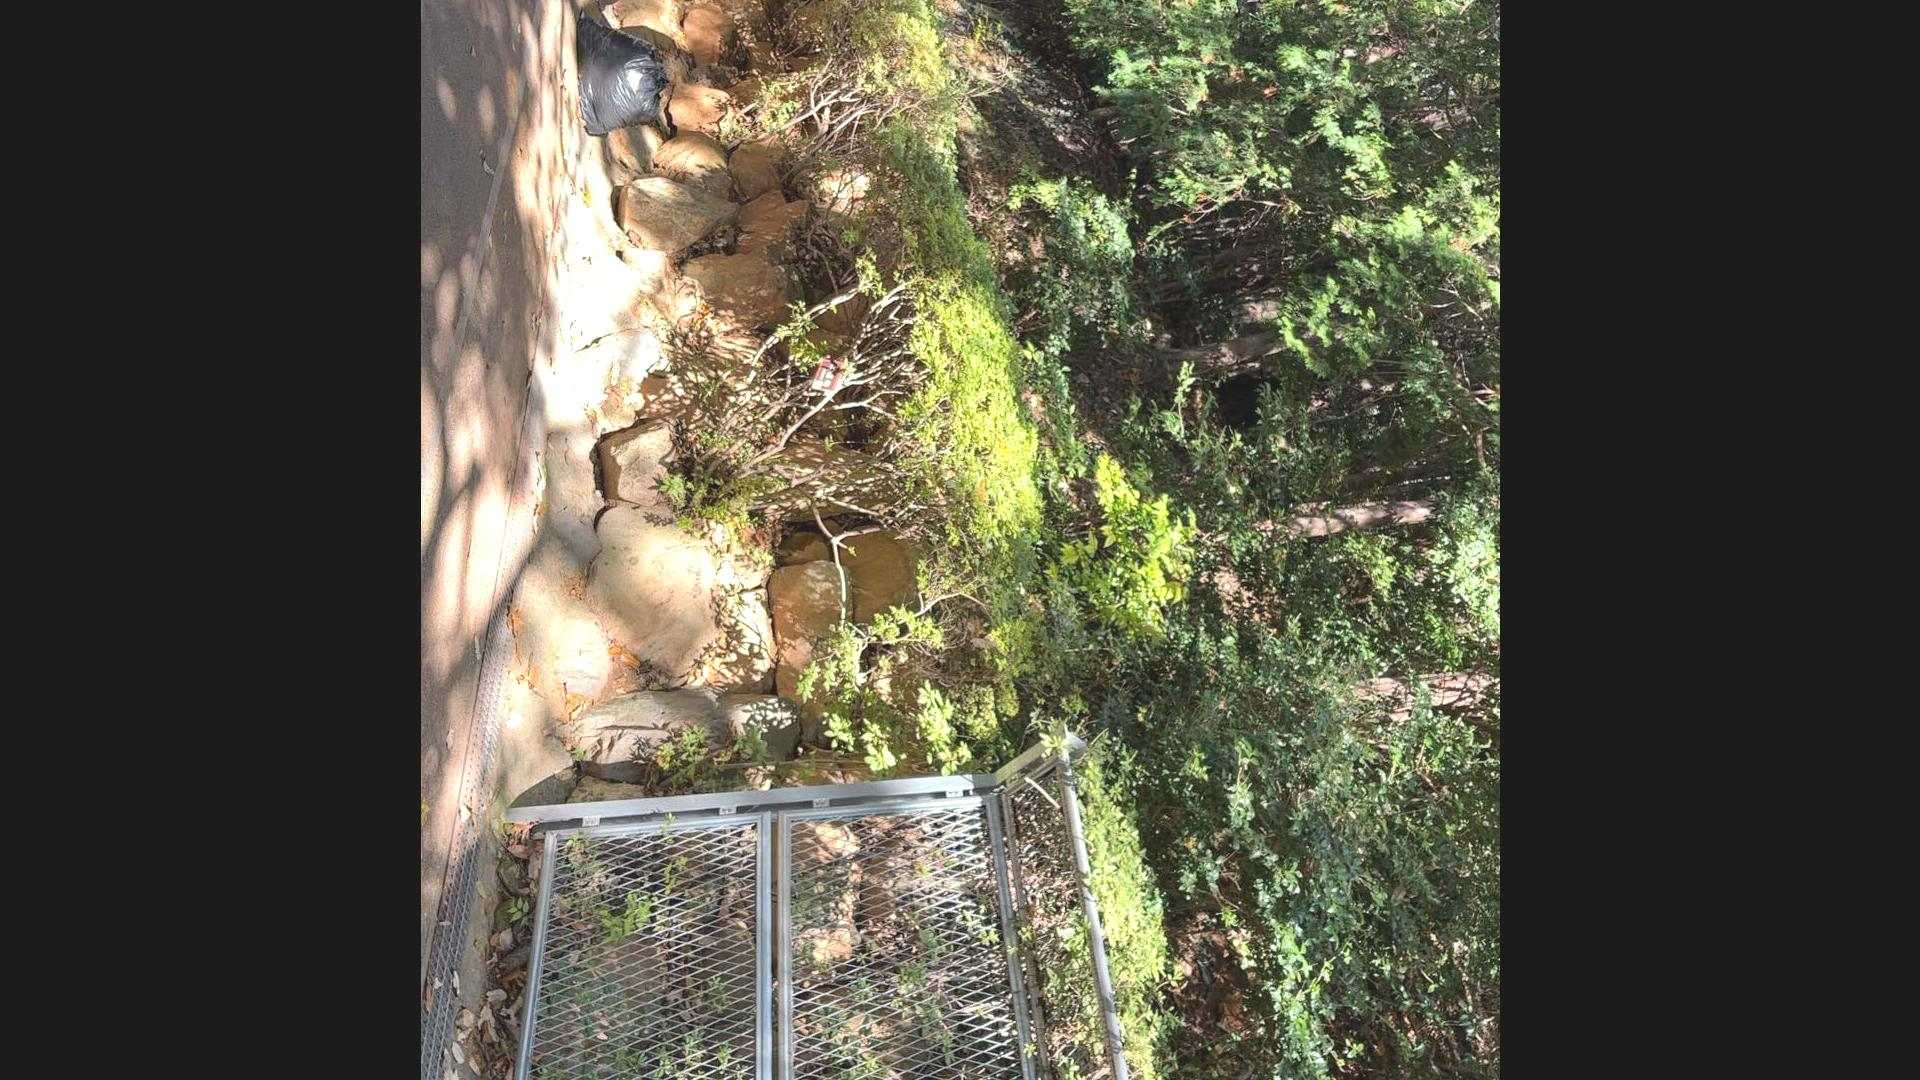black_bag: (568, 9, 673, 142)
